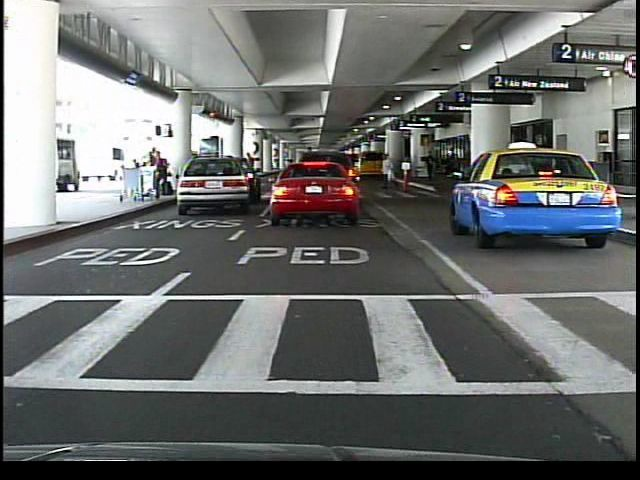person: (277, 154, 299, 207), (240, 146, 260, 202), (152, 146, 167, 196), (302, 151, 316, 203), (381, 150, 396, 188), (423, 148, 437, 182)
